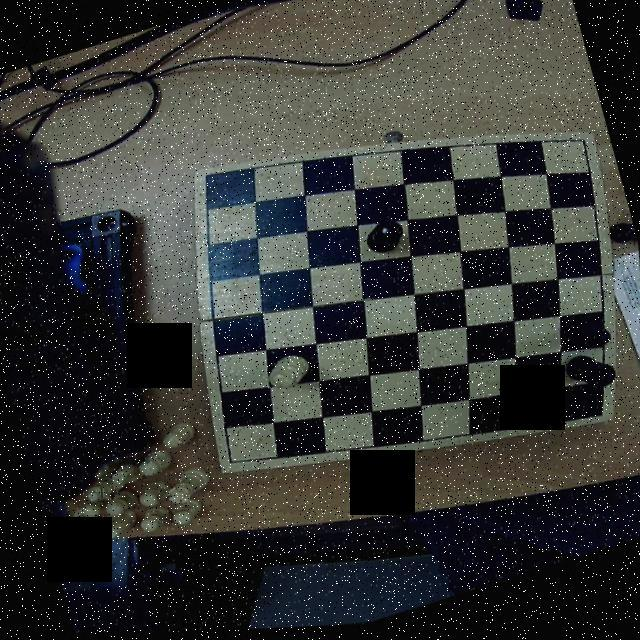chess-table-corners: (192, 164, 226, 197), (580, 406, 614, 434), (214, 446, 245, 476), (568, 136, 598, 163)
